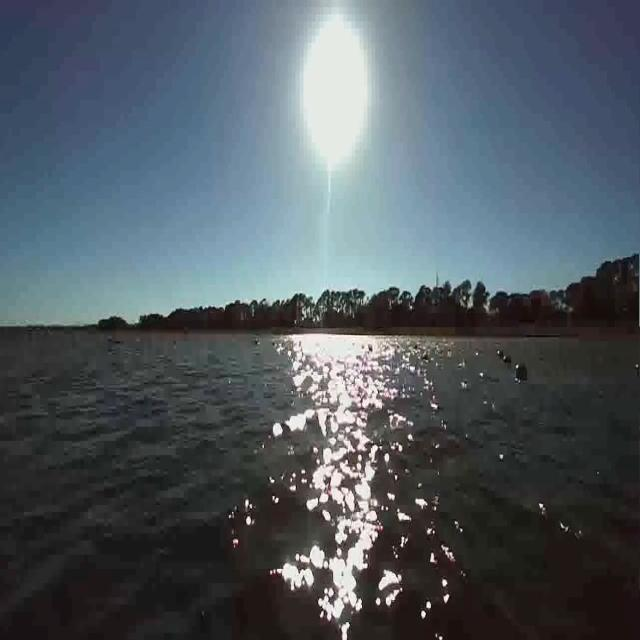black-buoy: (515, 362, 527, 380)
